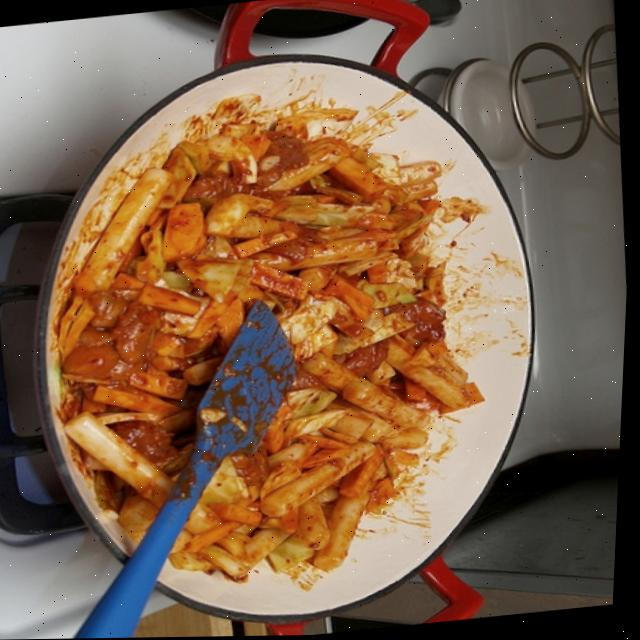鸡肉料理 含炸鸡: (0, 19, 590, 637)
